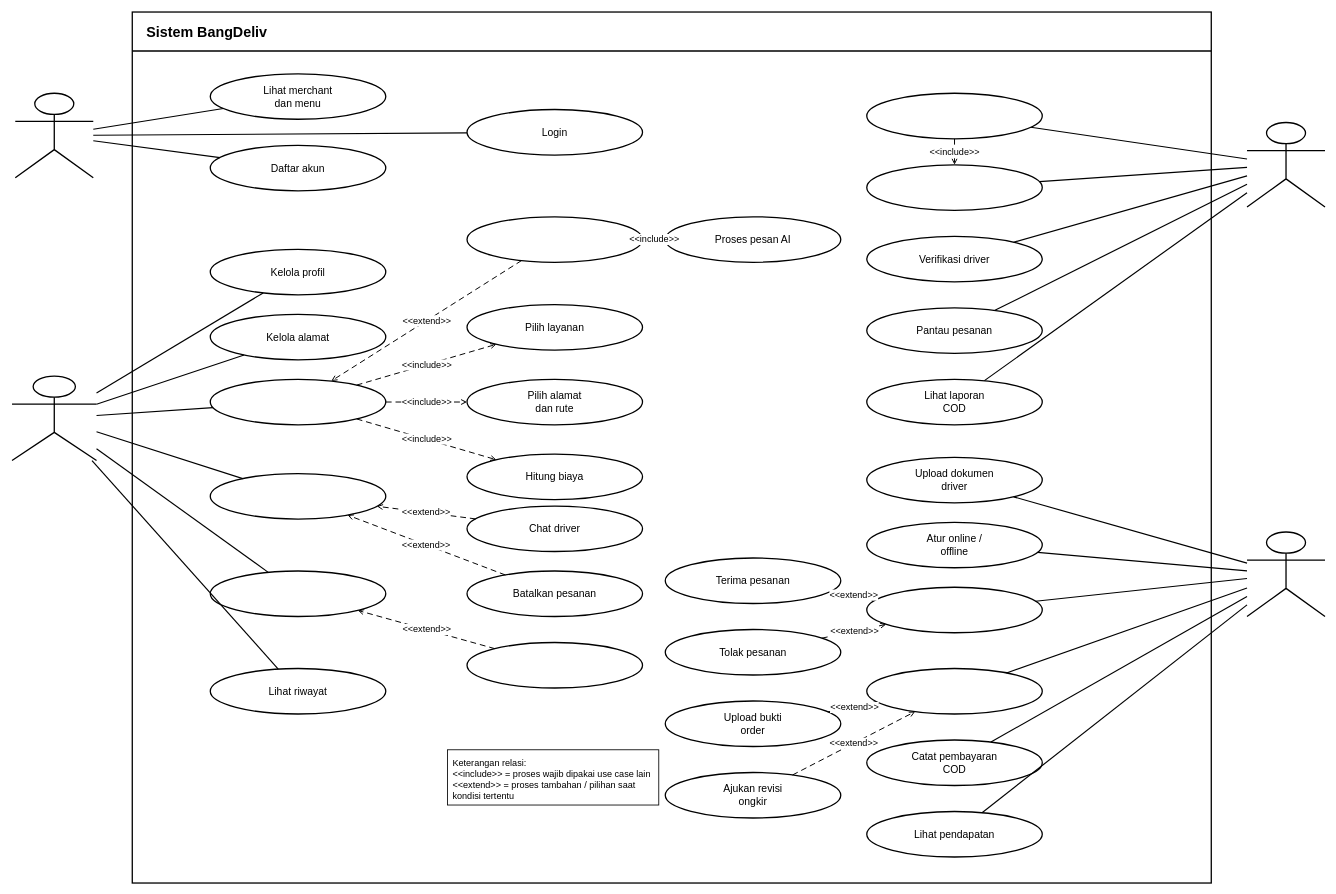
The diagram is 1336 pixels wide and 894 high, and some of its shapes have lost their labels. Each missing label, with the centre of its shape:
Admin: (x=1285, y=164)
Bayar pesanan: (x=297, y=593)
Buat lewat chatbot: (x=554, y=239)
Buat pesanan: (x=297, y=401)
Customer: (x=54, y=418)
Driver: (x=1285, y=574)
Jalankan pesanan: (x=954, y=691)
Kelola menu: (x=954, y=187)
Kelola merchant: (x=954, y=115)
Lacak pesanan: (x=297, y=496)
Lihat pesanan masuk: (x=954, y=609)
Tamu: (x=54, y=135)
Upload bukti transfer: (x=554, y=665)
